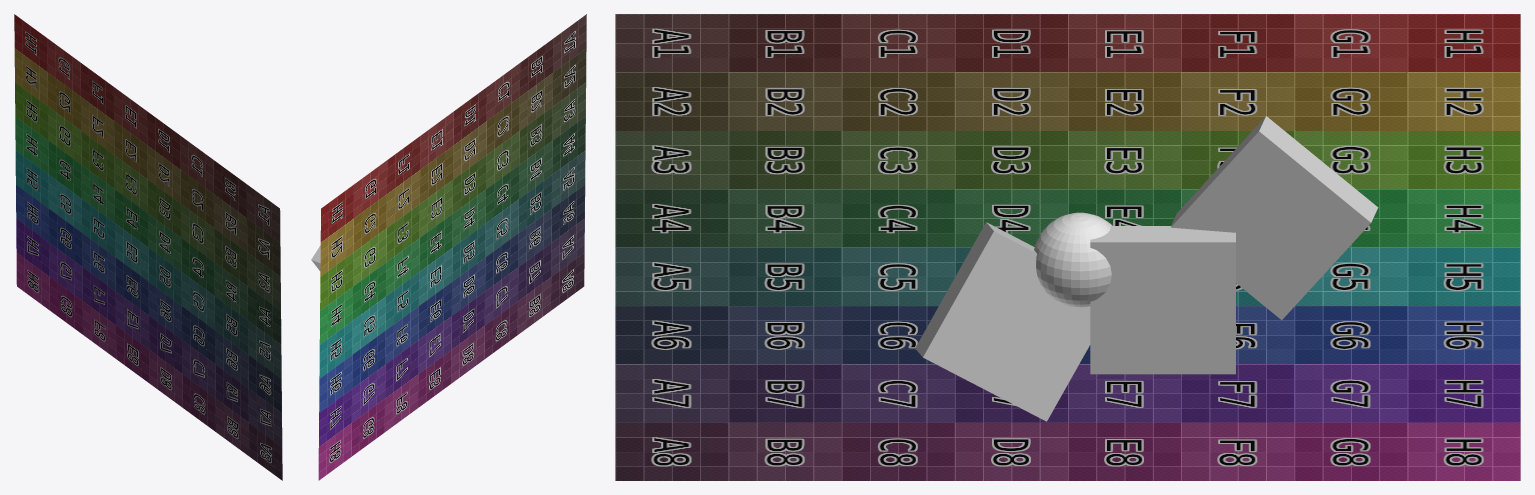
The model's file is example.dae.
The picture shows the model from 3 angles, left to right: view 1: azimuth 30°, elevation 25°; view 2: azimuth 150°, elevation 25°; view 3: azimuth 270°, elevation 25°; orthographic projection. The views are drawn at different scales.
Visible parts, largest first — view 1: Plane; view 2: Plane; view 3: Plane, Cube_001, Cube, Cube_002, Sphere.
Part boxes in pixels (x1,y1,x2,y2): Plane: [14, 14, 282, 480]; Plane: [318, 14, 586, 480]; Plane: [615, 14, 1520, 480]; Cube_001: [1171, 116, 1378, 319]; Cube: [1090, 226, 1235, 374]; Cube_002: [915, 222, 1090, 421]; Sphere: [1034, 212, 1112, 307].
Size of the model in its own units: 1.7 by 12.41 by 7.03.
2 materials, 1 textured.
